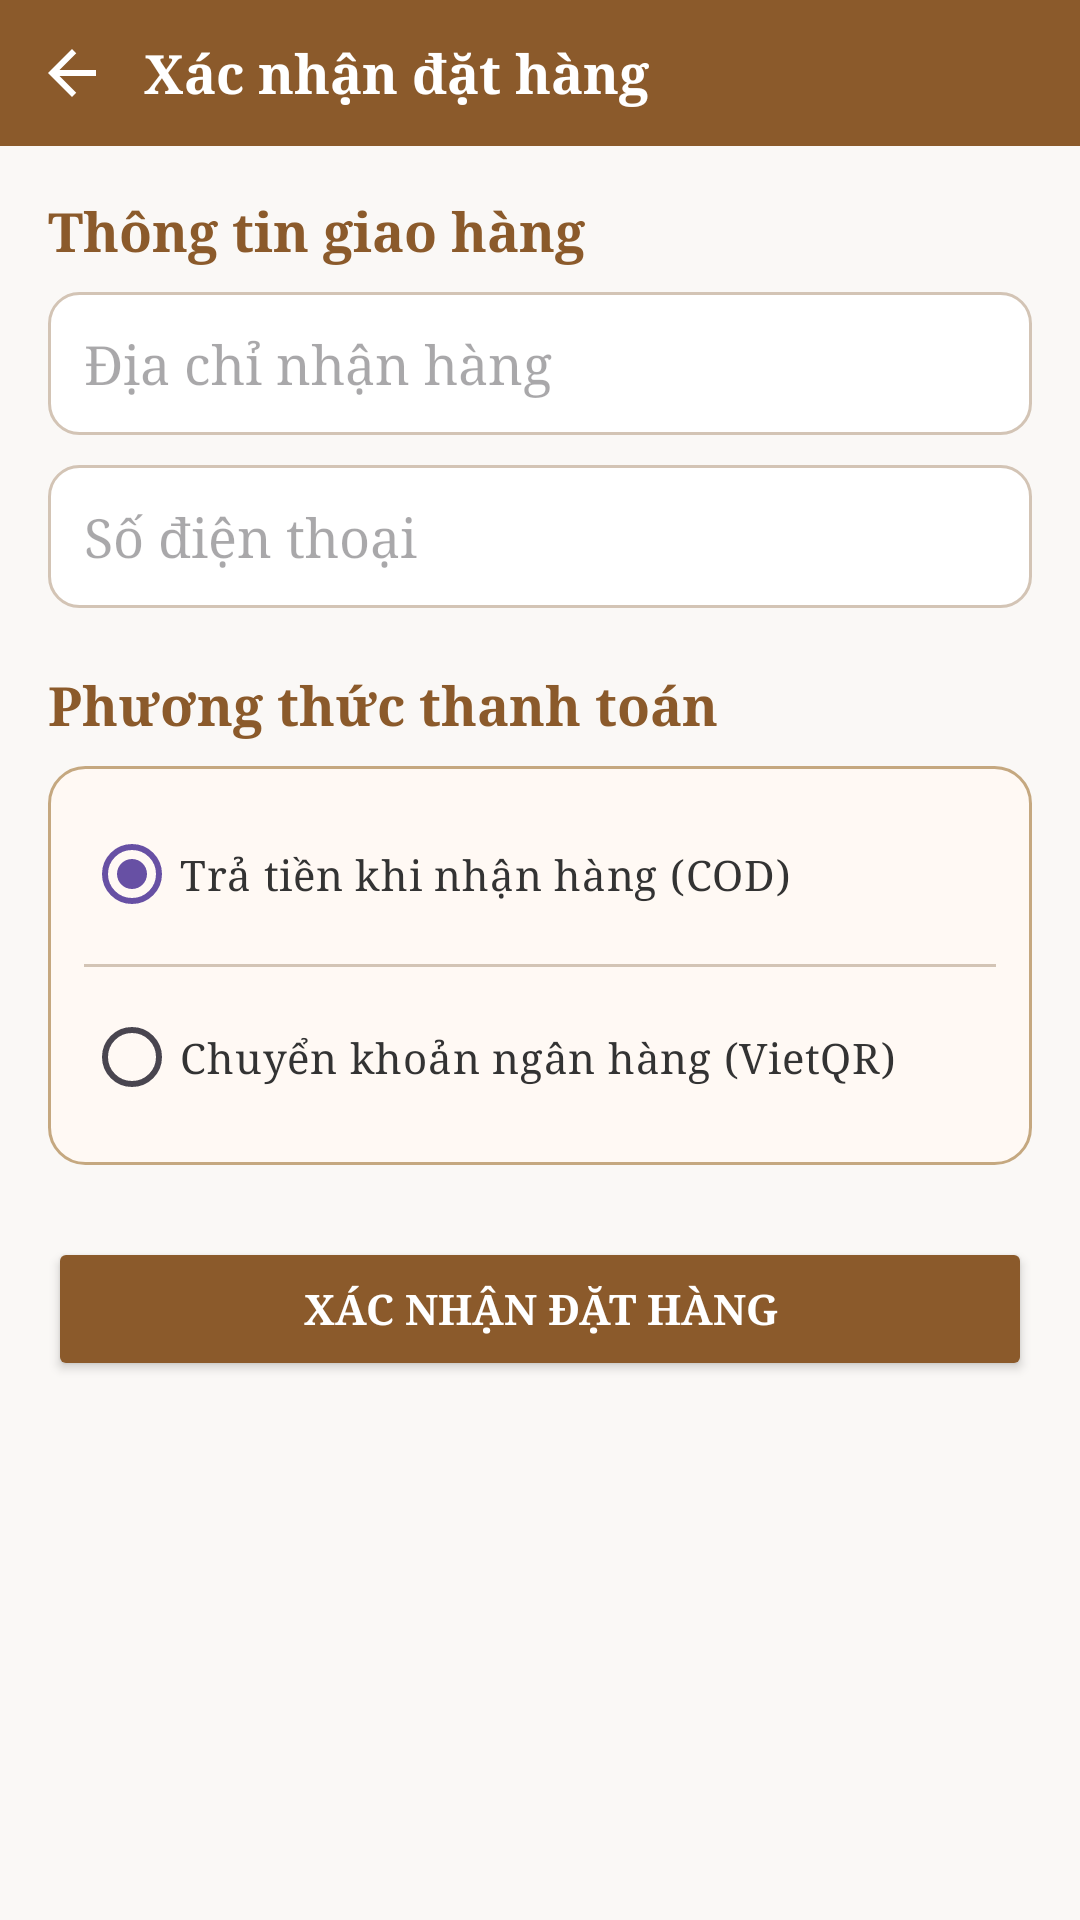

Where to tap for icons on this 1080×1920 app screen, as (x=x, y=y):
back: (x=72, y=73)
